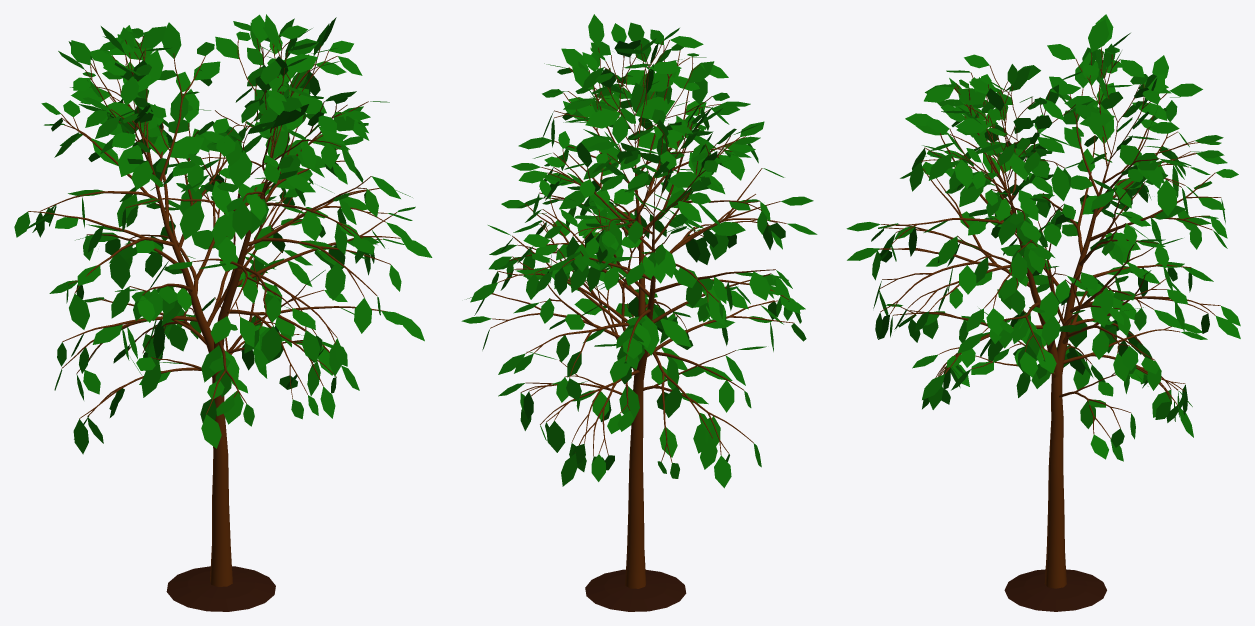
File: Stage5.glb
3 renders of one model, left to right at view 1: azimuth 30°, elevation 25°; view 2: azimuth 150°, elevation 25°; view 3: azimuth 270°, elevation 25°, orthographic. The views are drawn at different scales.
Visible parts, largest first — view 1: leaves.001, stage3, Cone; view 2: leaves.001, stage3, Cone; view 3: leaves.001, stage3, Cone.
Boxes of the visible parts, x1,y1,x2,y2 form: leaves.001: [14, 14, 432, 454]; stage3: [28, 35, 400, 586]; Cone: [166, 566, 275, 611]; leaves.001: [461, 14, 817, 488]; stage3: [490, 40, 793, 588]; Cone: [585, 569, 686, 611]; leaves.001: [846, 14, 1240, 461]; stage3: [879, 47, 1221, 588]; Cone: [1004, 569, 1106, 611].
Size of the model in its own units: 1.93 by 2.99 by 1.98.
